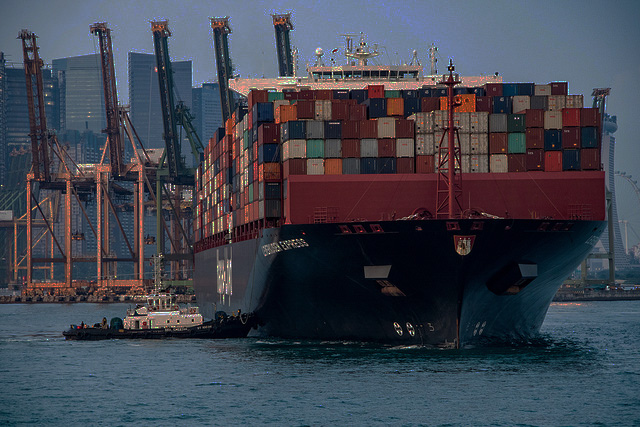container_ship: (194, 38, 606, 354)
tug_boat: (64, 258, 248, 345)
